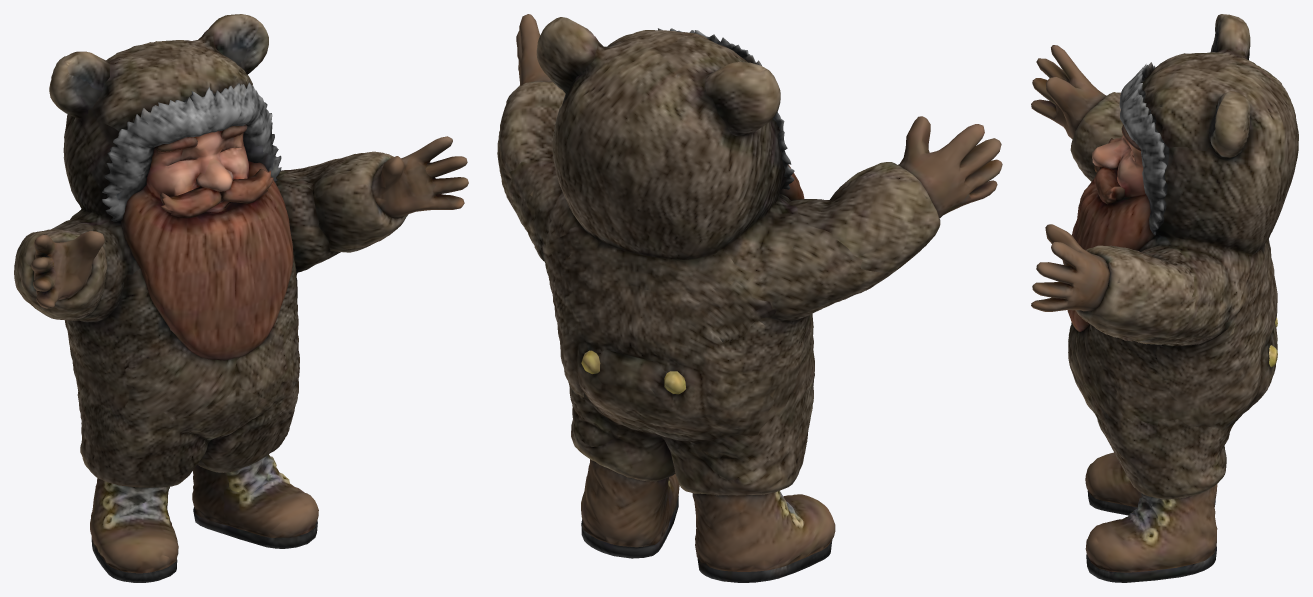
The model's file is MZ4250 - Copper Knobberknocker.glb.
3 views of the same model, side by side, from view 1: azimuth 30°, elevation 25°; view 2: azimuth 150°, elevation 25°; view 3: azimuth 270°, elevation 25° (orthographic). The views are drawn at different scales.
Parts seen in each view (by area): view 1: ORGANIC BASE SPHERE.001; view 2: ORGANIC BASE SPHERE.001; view 3: ORGANIC BASE SPHERE.001.
Part boxes in pixels (x1,y1,x2,y2): ORGANIC BASE SPHERE.001: (14,14,468,582); ORGANIC BASE SPHERE.001: (497,14,1002,582); ORGANIC BASE SPHERE.001: (1031,14,1298,582).
Size of the model in its own units: 55.12 by 58.4 by 29.54.
1 material, 1 textured.
